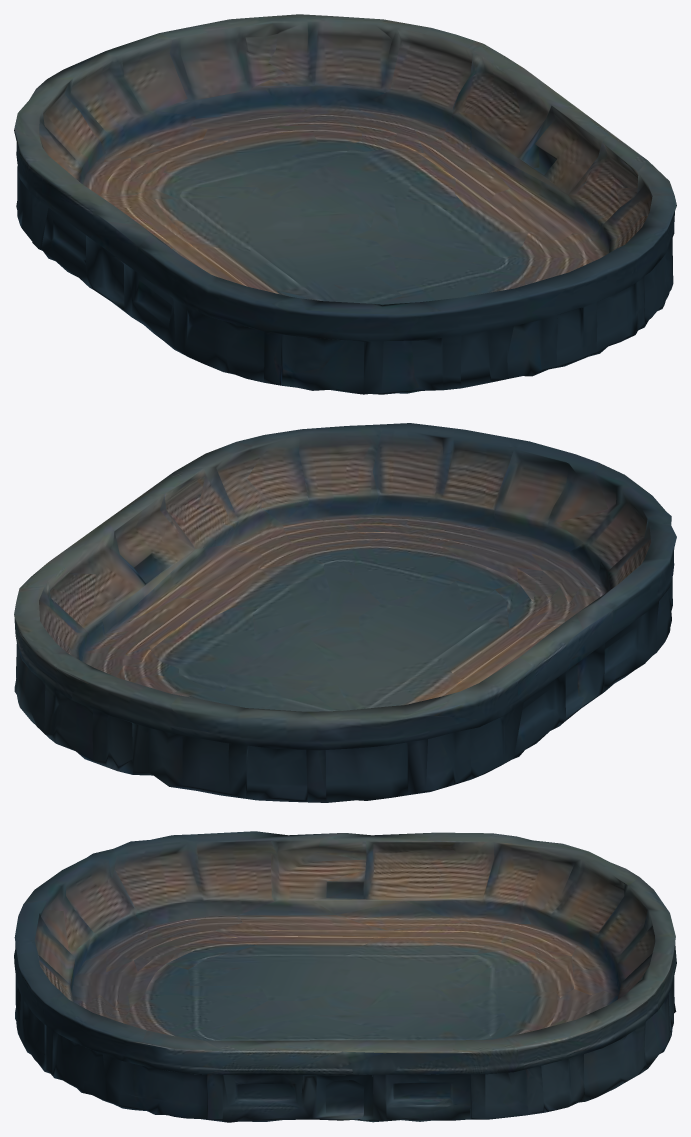
File: 3d-stadion.glb
The picture shows the model from 3 angles, top to bottom: view 1: azimuth 30°, elevation 25°; view 2: azimuth 150°, elevation 25°; view 3: azimuth 270°, elevation 25°; orthographic projection. The views are drawn at different scales.
Parts seen in each view (by area): view 1: tripo_node_bf15ece0-6175-4926-9f50-d4692a1d3f52; view 2: tripo_node_bf15ece0-6175-4926-9f50-d4692a1d3f52; view 3: tripo_node_bf15ece0-6175-4926-9f50-d4692a1d3f52.
Part boxes in pixels (x1,y1,x2,y2): tripo_node_bf15ece0-6175-4926-9f50-d4692a1d3f52: [14, 14, 676, 394]; tripo_node_bf15ece0-6175-4926-9f50-d4692a1d3f52: [14, 423, 676, 802]; tripo_node_bf15ece0-6175-4926-9f50-d4692a1d3f52: [14, 831, 676, 1122].
Bounding box in the file's own units: 0.7646 × 0.1333 × 1.
Materials: 1 (1 with a texture image).
